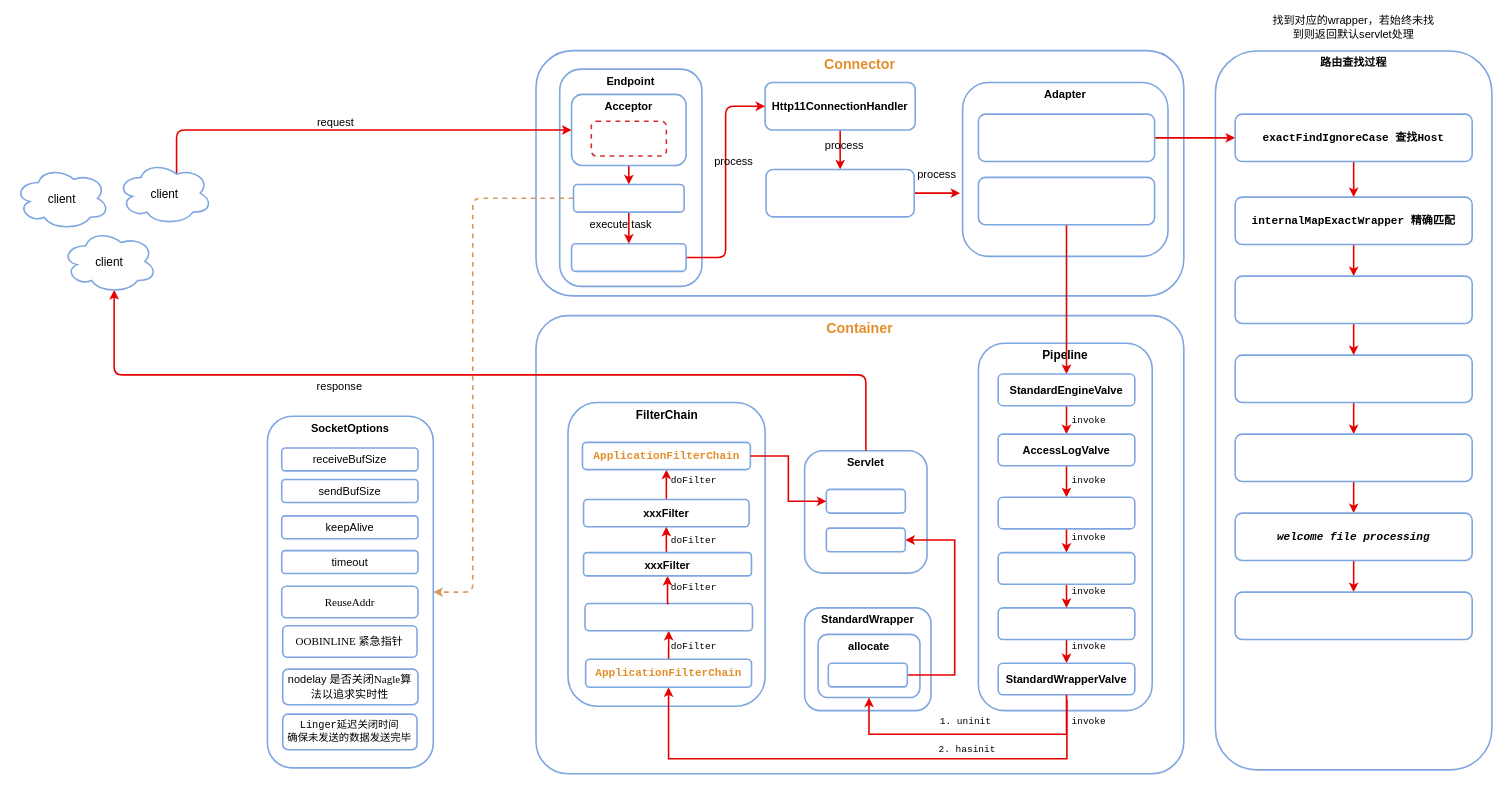
This 1506x788 diagram has some shape labels left out. The centre of each missing label's shape, as x and y in pixels:
1. postParseRequest() 匹配路由: point 1066,137
2. 路由匹配成功则进入Pipeline: point 1066,200
AbstractHttp11Processor: point 840,192
Default servlet: point 1353,615
ErrorReportValve: point 1066,512
init: point 865,539
initServlet: point 867,674
internalMapExtensionWrapper 扩展名匹配: point 1353,378
internalMapWildcardWrapper 通配符匹配: point 1353,299
LatchLimit 并发控制: point 628,138
service: point 865,501
SetCharacterEncodingFilter: point 668,616
setSocketOptions: point 628,198
SocketProcessor: point 628,257
StandardContextValve: point 1066,623
StandardHostValve: point 1066,568
Welcome resources processing: point 1353,457
